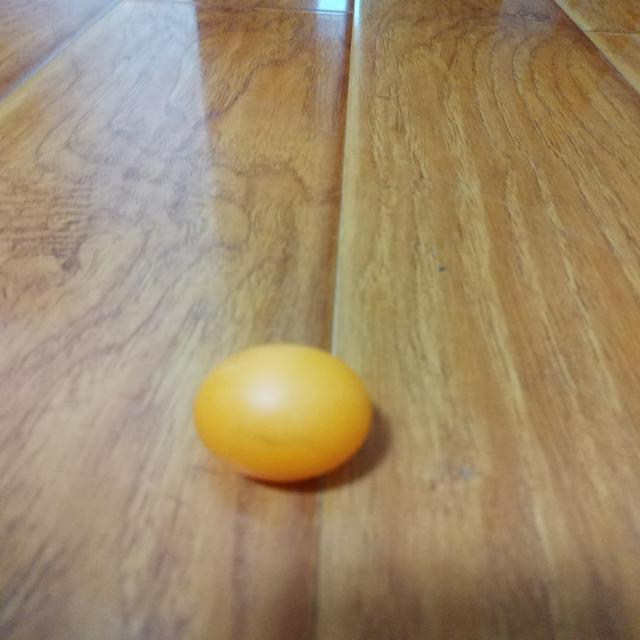oball: (194, 345, 374, 481)
